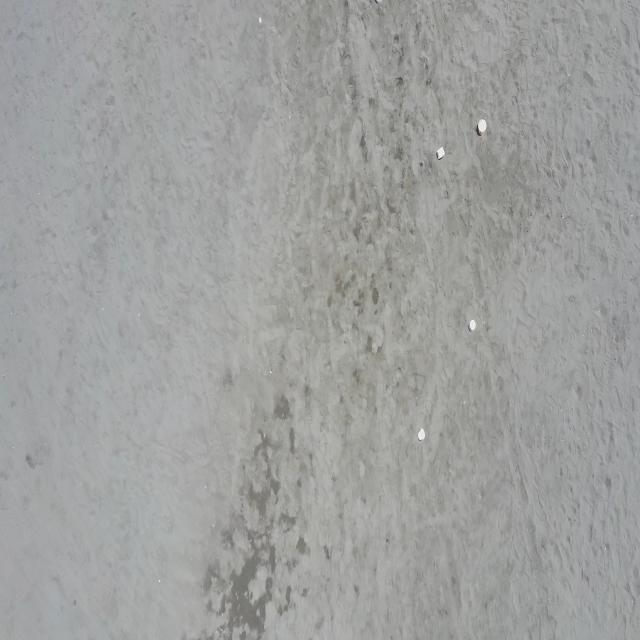take-away-containers: (478, 118, 487, 136), (436, 146, 446, 160), (468, 318, 476, 332), (418, 427, 425, 442)
